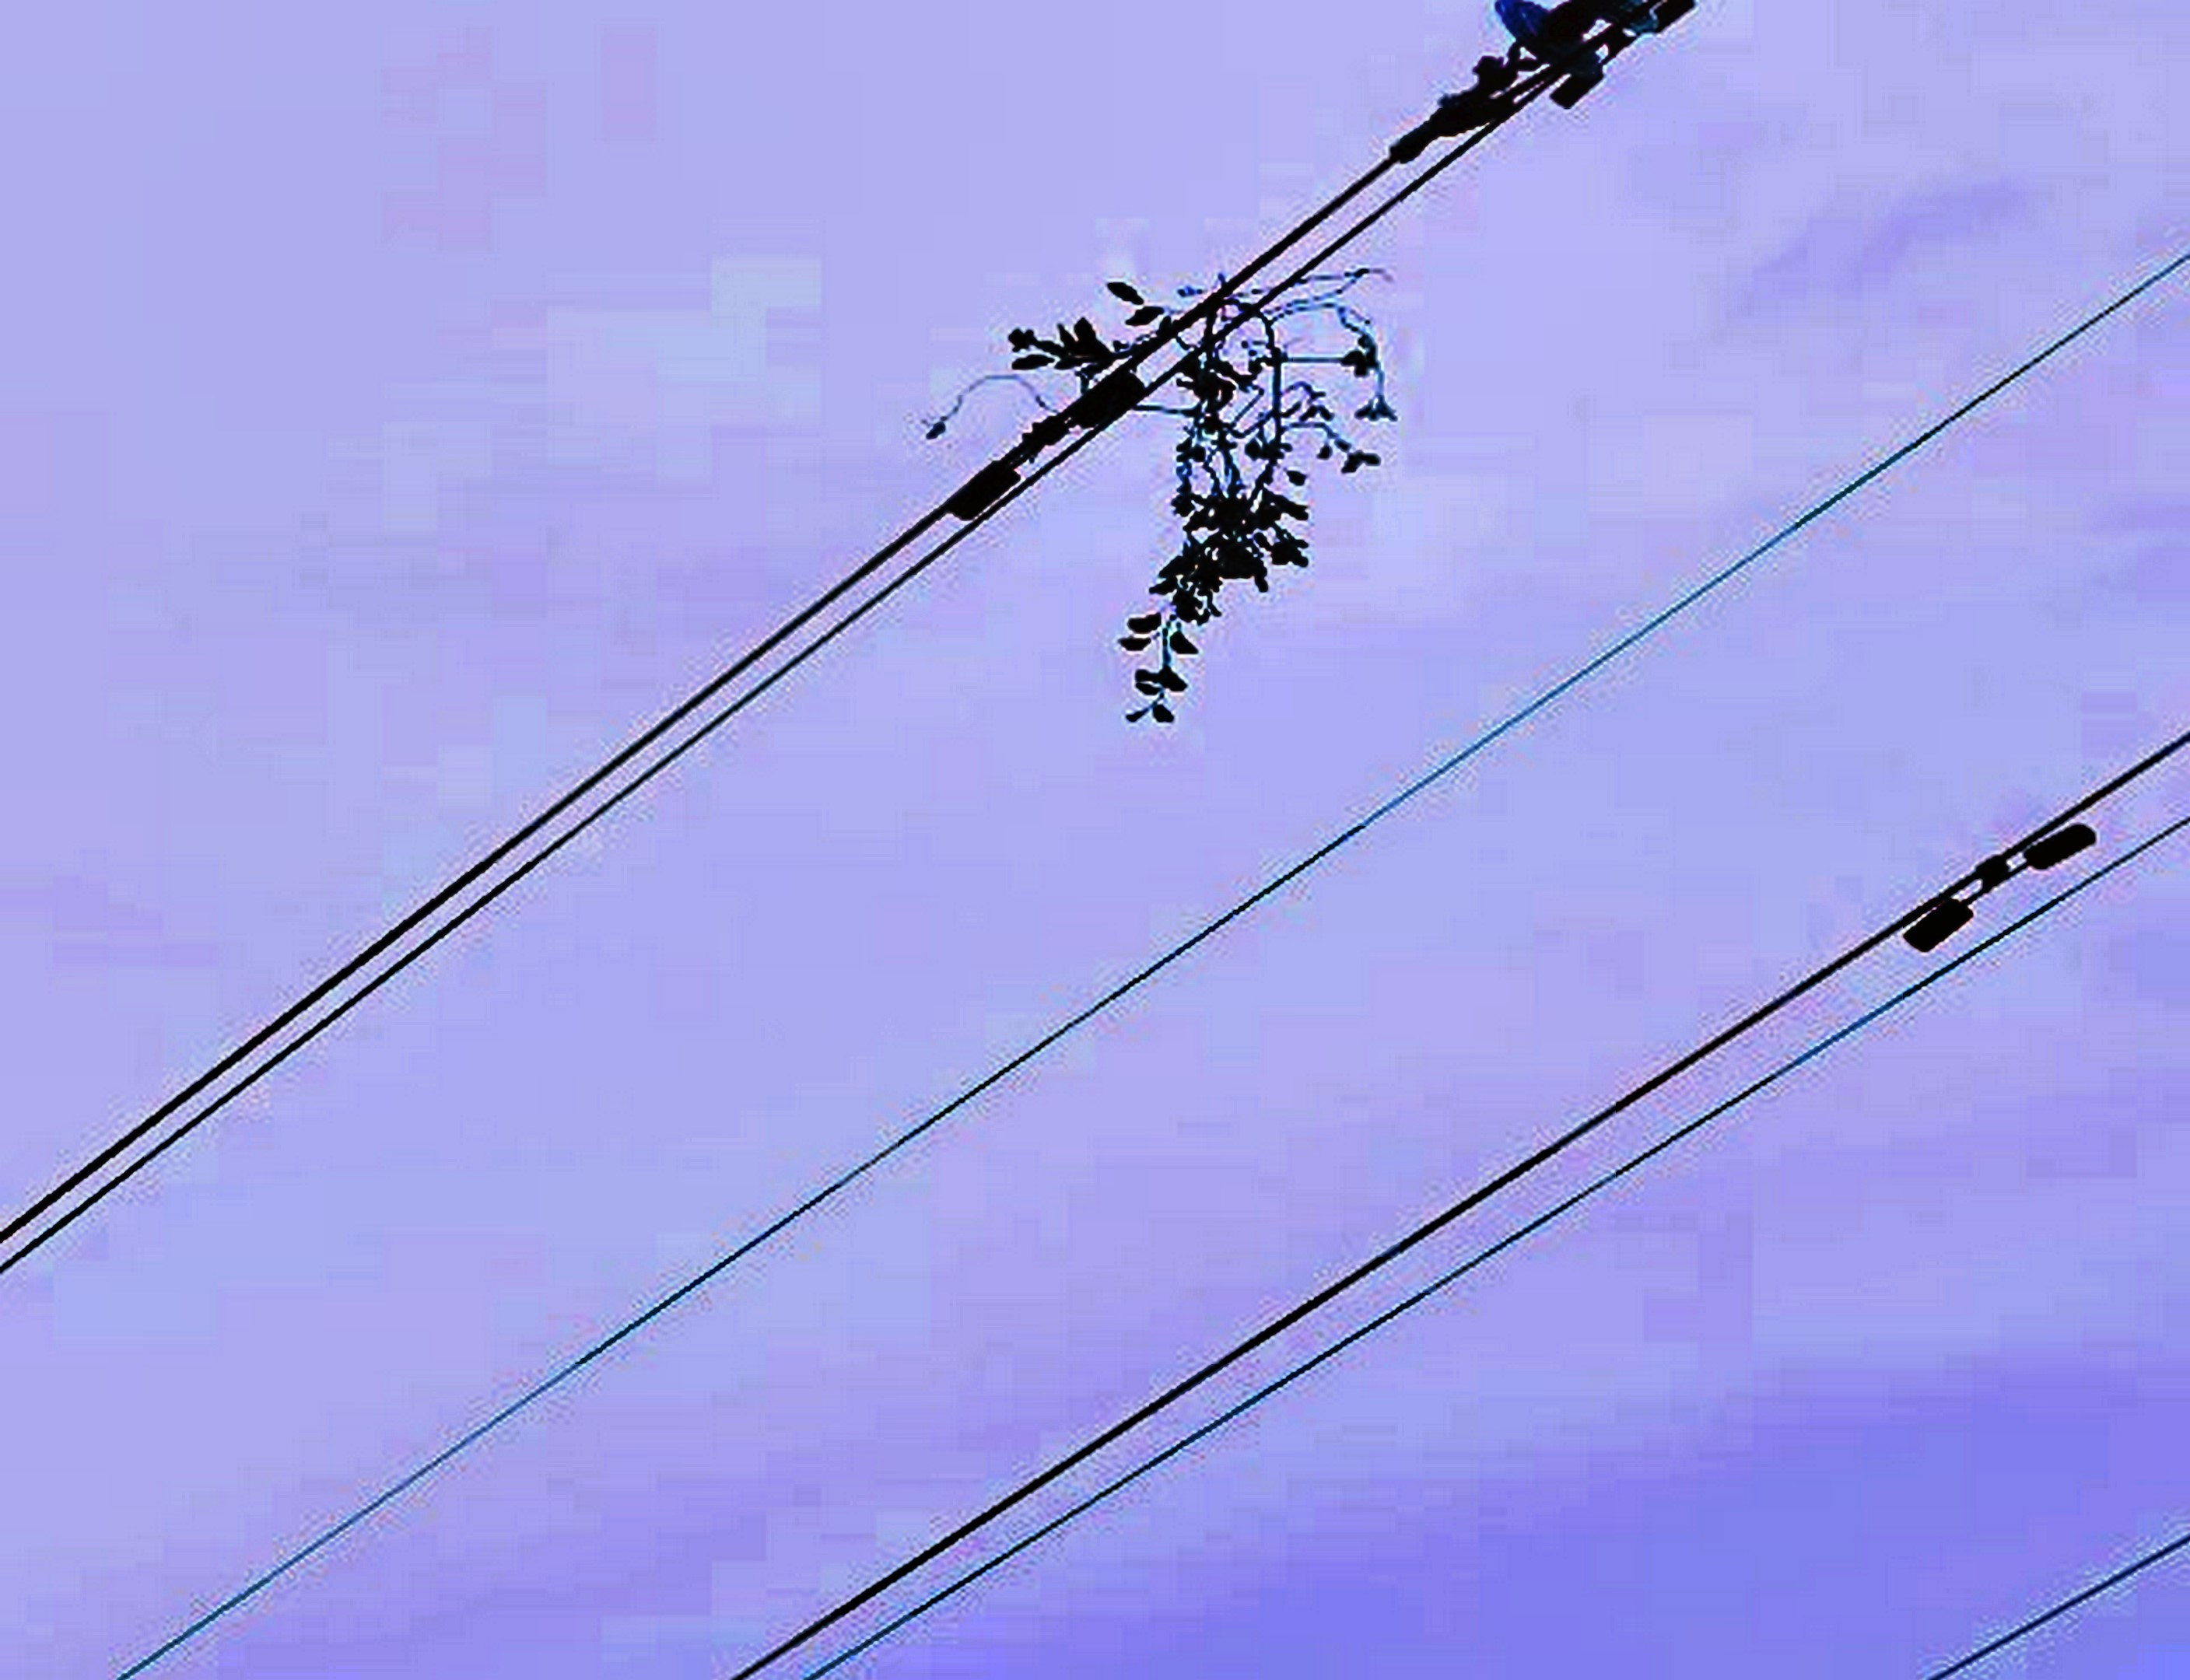wire foreign body: (1002, 235, 1414, 769)
